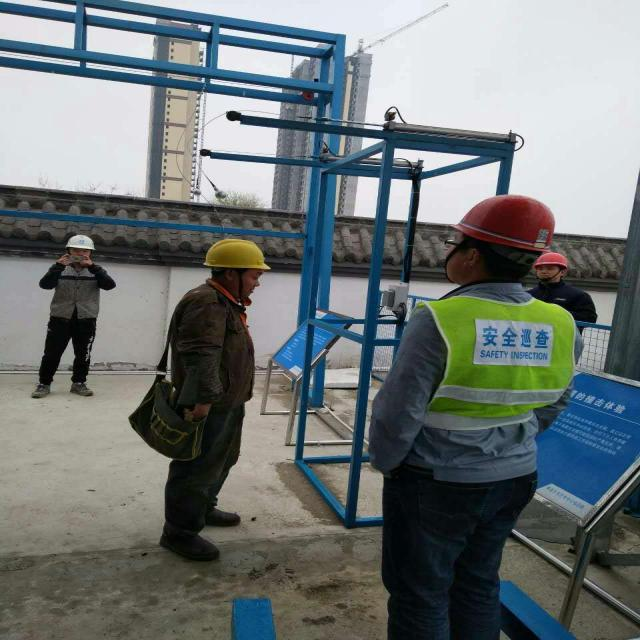Reflective-Jacket: (407, 290, 578, 439), (44, 260, 107, 322)
Safety-Helmet: (441, 190, 564, 252), (200, 235, 274, 272), (531, 249, 572, 269), (64, 232, 99, 252)
